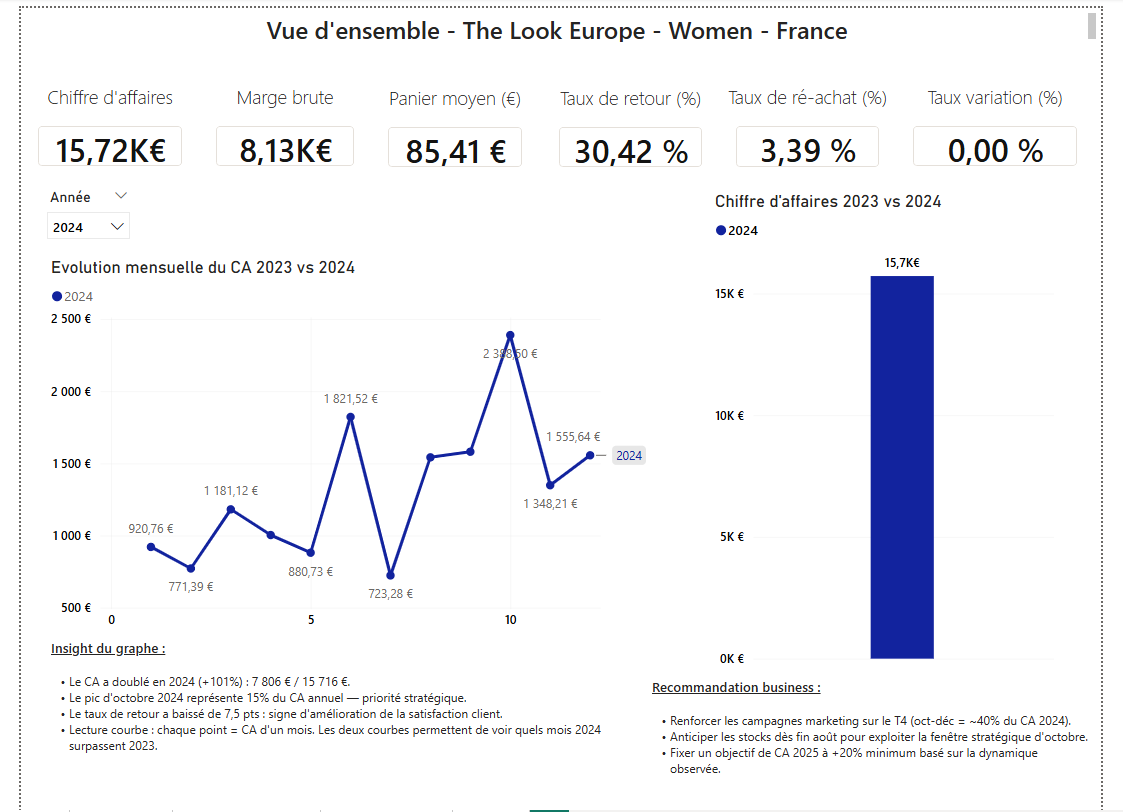

What the dashboard file says about the page in this screenshot:
{"tool":"powerbi","page":{"name":"Vue ensemble","canvas":[1080,1920],"ordinal":0},"visuals":[{"type":"cardVisual","title":"Chiffre d''affaires","fields":{"Data":["Mesures.001_CA"]},"box":[0,71,178,104],"z":0},{"type":"cardVisual","title":"Marge brute","fields":{"Data":["Mesures.002_Marge_brute"]},"box":[178,71,172,104],"z":1000},{"type":"cardVisual","title":"Panier moyen (€)","fields":{"Data":["Mesures.003_Panier_moyen"]},"box":[350,72,168,104],"z":2000},{"type":"cardVisual","title":"Taux de retour (%)","fields":{"Data":["Mesures.004_Taux_retour"]},"box":[521,72,177,104],"z":3000},{"type":"cardVisual","title":"Taux de ré-achat (%)","fields":{"Data":["Mesures.005_Taux_reachat"]},"box":[698,71,177,105],"z":4000},{"type":"slicer","fields":{"Values":["thelook_ventes.Année"]},"box":[16,176,103,65],"z":5000},{"type":"lineChart","title":"Evolution mensuelle du CA 2023 vs 2024","fields":{"Category":["Calendrier.Nom Mois"],"Y":["Mesures.001_CA"],"Series":["thelook_ventes.Année"]},"box":[25,249,605,381],"z":6000},{"type":"textbox","box":[25,626,594,129],"z":7000},{"type":"clusteredColumnChart","title":"Chiffre d''affaires 2023 vs 2024","fields":{"Y":["Mesures.001_CA"],"Series":["thelook_ventes.Année"]},"box":[689,183,349,482],"z":8000},{"type":"textbox","box":[0,0,1080,39],"z":9000},{"type":"textbox","box":[626,665,446,114],"z":10000},{"type":"cardVisual","title":"Taux variation (%)","fields":{"Data":["Mesures.014_Var%"]},"box":[875,71,198,104],"z":11000}]}

Visuals, with their boxes on the page's 1080x1920 design canvas (x1, y1, x2, y2). These are canvas units, not pixel positions in the 1123x812 screenshot, which may show the page scaled, cropped or inside an application window:
"Chiffre d''affaires" cardVisual: x1=0 y1=71 x2=178 y2=175
"Marge brute" cardVisual: x1=178 y1=71 x2=350 y2=175
"Panier moyen (€)" cardVisual: x1=350 y1=72 x2=518 y2=176
"Taux de retour (%)" cardVisual: x1=521 y1=72 x2=698 y2=176
"Taux de ré-achat (%)" cardVisual: x1=698 y1=71 x2=875 y2=176
slicer - thelook_ventes.Année: x1=16 y1=176 x2=119 y2=241
"Evolution mensuelle du CA 2023 vs 2024" lineChart: x1=25 y1=249 x2=630 y2=630
textbox: x1=25 y1=626 x2=619 y2=755
"Chiffre d''affaires 2023 vs 2024" clusteredColumnChart: x1=689 y1=183 x2=1038 y2=665
textbox: x1=0 y1=0 x2=1080 y2=39
textbox: x1=626 y1=665 x2=1072 y2=779
"Taux variation (%)" cardVisual: x1=875 y1=71 x2=1073 y2=175
